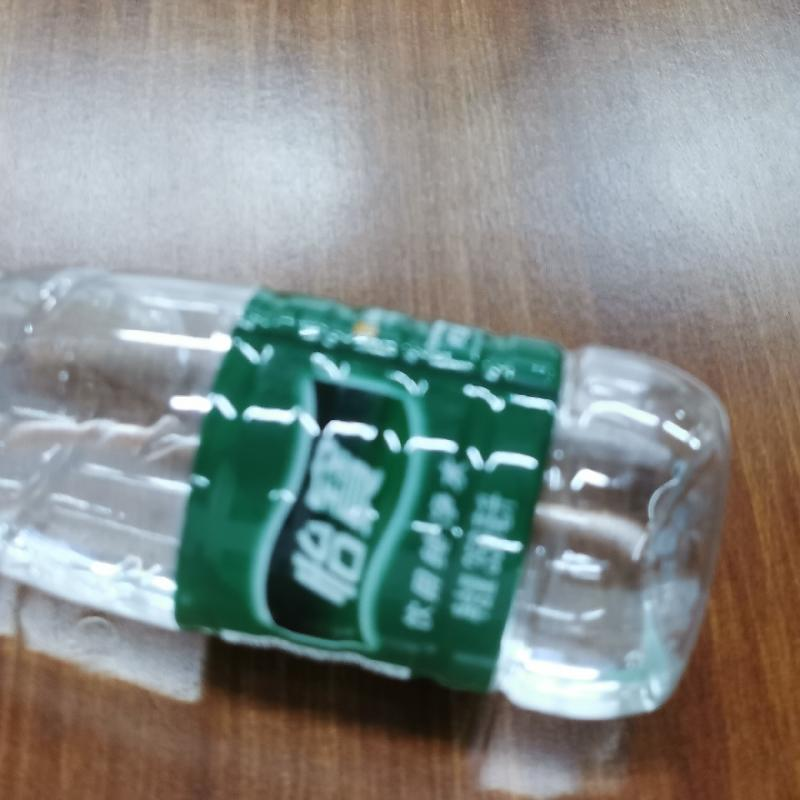bottles: (4, 259, 732, 728)
